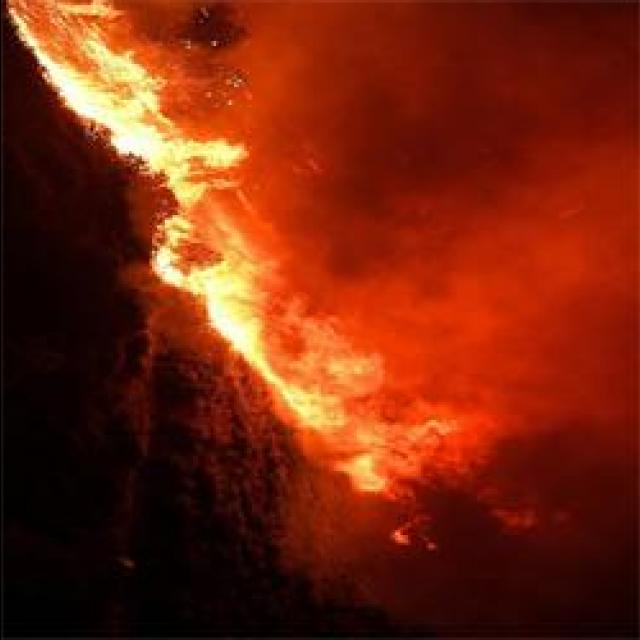fire: (204, 268, 259, 344), (139, 136, 236, 166), (56, 72, 112, 120), (104, 98, 154, 150), (96, 51, 146, 93), (282, 385, 332, 426), (146, 245, 188, 288), (343, 450, 379, 490)
smoke: (359, 0, 637, 104), (383, 185, 534, 354), (514, 130, 638, 299), (278, 304, 391, 386), (390, 393, 504, 467), (346, 378, 396, 446)
